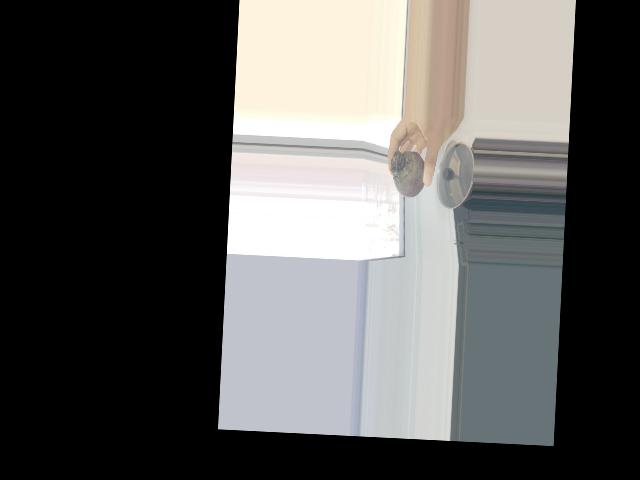beet: (389, 137, 427, 198)
